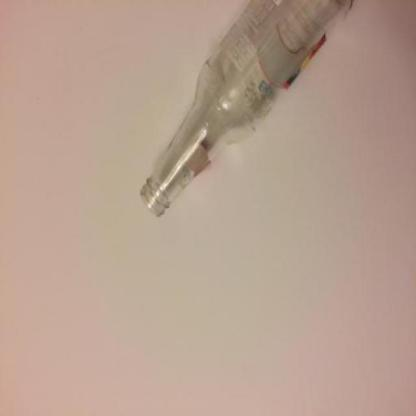Can: (139, 3, 352, 217)
